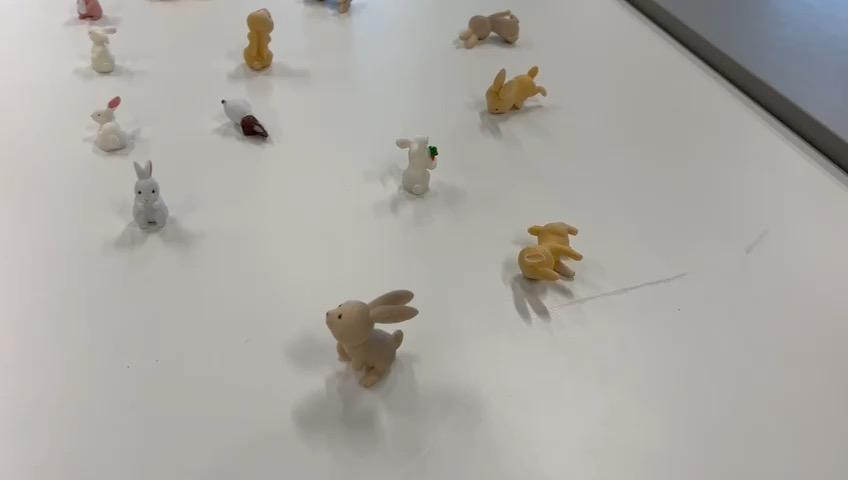pet: (318, 283, 423, 391), (512, 214, 585, 286), (484, 62, 550, 118), (447, 7, 521, 53), (391, 131, 441, 197), (130, 158, 170, 234), (87, 93, 134, 155), (218, 93, 273, 143), (241, 2, 275, 73), (87, 23, 118, 76)
